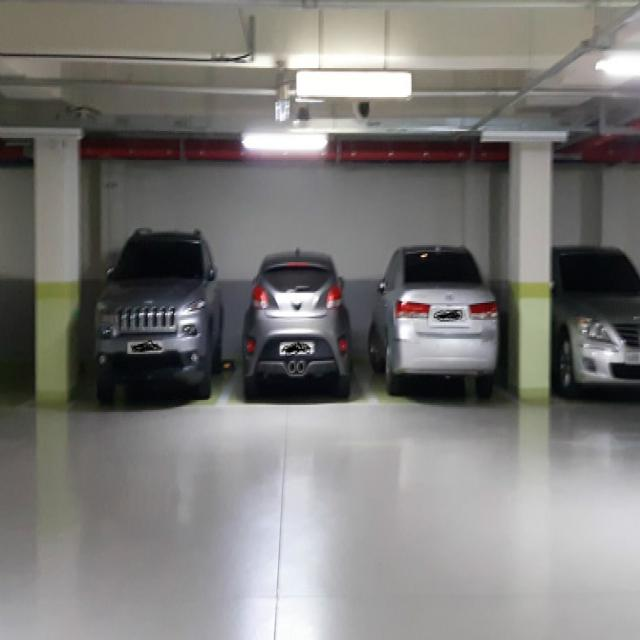occupied: (90, 233, 228, 397), (368, 244, 500, 389), (242, 247, 358, 400), (552, 247, 640, 388)
